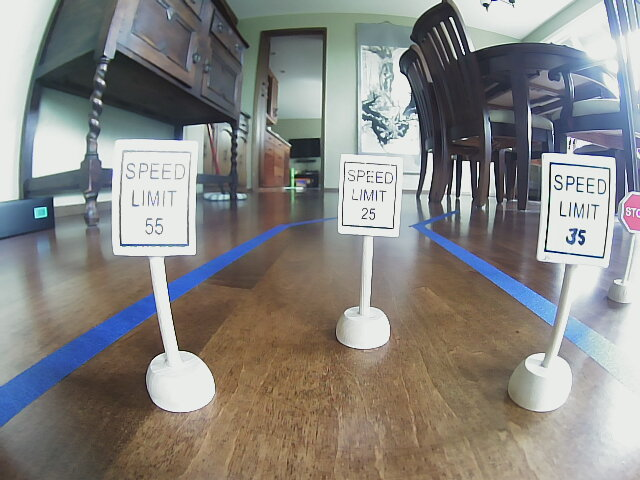SpeedLimit25: (342, 152, 396, 233)
SpeedLimit35: (544, 152, 606, 261)
SpeedLimit55: (114, 140, 191, 250)
